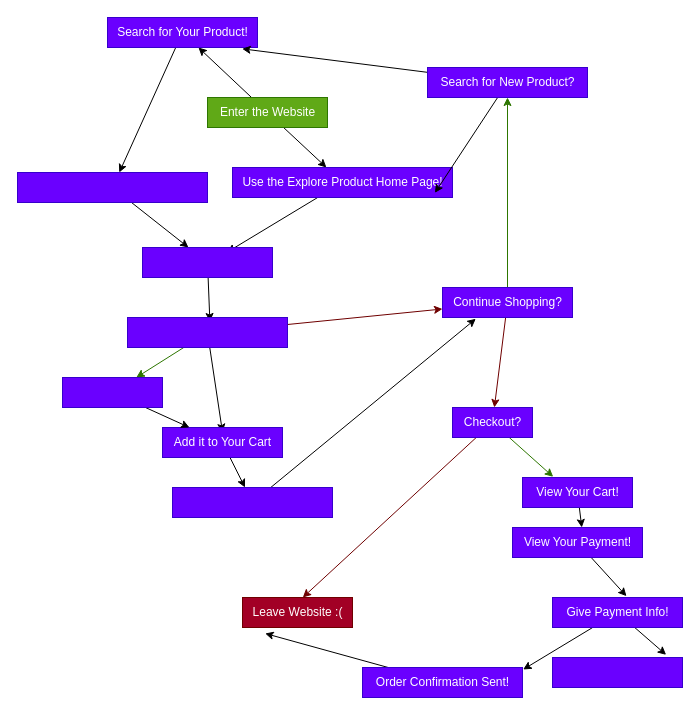
The diagram is 700 pixels wide and 715 high, and some of its shapes have lost their labels. The centre of each missing label's shape, as x and y in pixels:
"Add to Cart Confirmation!" belongs at point 252,502.
"Email of Your Order!" belongs at point 617,672.
"Look Over Products!" belongs at point 207,262.
"Product Page" belongs at point 112,392.
"Provide Key Words for Search!" belongs at point 112,187.
"View a Specific Product?" belongs at point 207,332.
